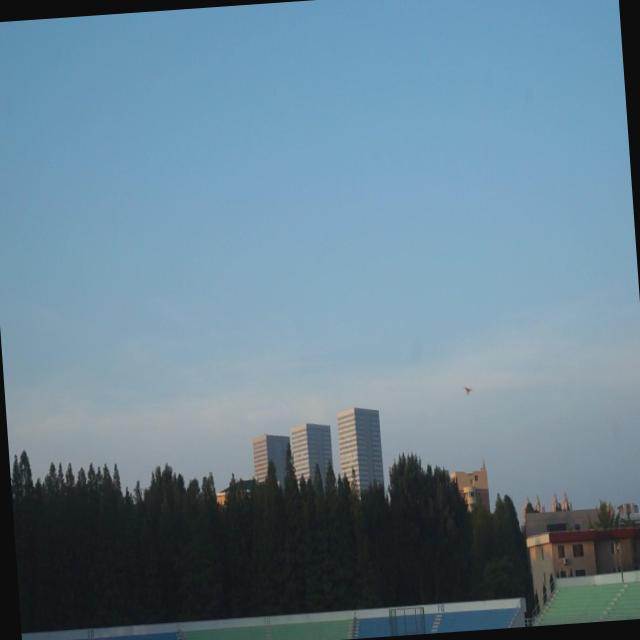drone: (459, 378, 474, 399)
